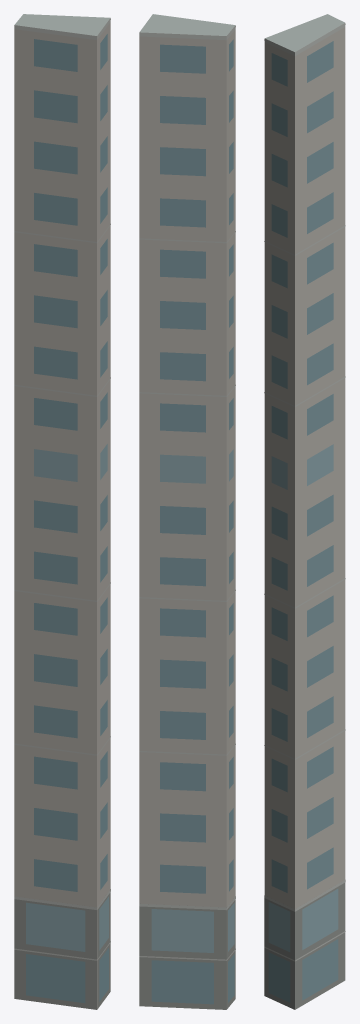
Rendered from survey-upis-32805487.glb.
3 renders of one model, left to right at view 1: azimuth 30°, elevation 25°; view 2: azimuth 210°, elevation 25°; view 3: azimuth 270°, elevation 25°, orthographic.
Parts seen in each view (by area): view 1: survey-upis-32805487.tmp; view 2: survey-upis-32805487.tmp; view 3: survey-upis-32805487.tmp.
Boxes of the visible parts, x1=… form: survey-upis-32805487.tmp: x1=14, y1=14, x2=110, y2=1009; survey-upis-32805487.tmp: x1=139, y1=14, x2=235, y2=1009; survey-upis-32805487.tmp: x1=264, y1=14, x2=345, y2=1009.
Bounding box in the file's own units: 4.99 × 57.95 × 4.45.
